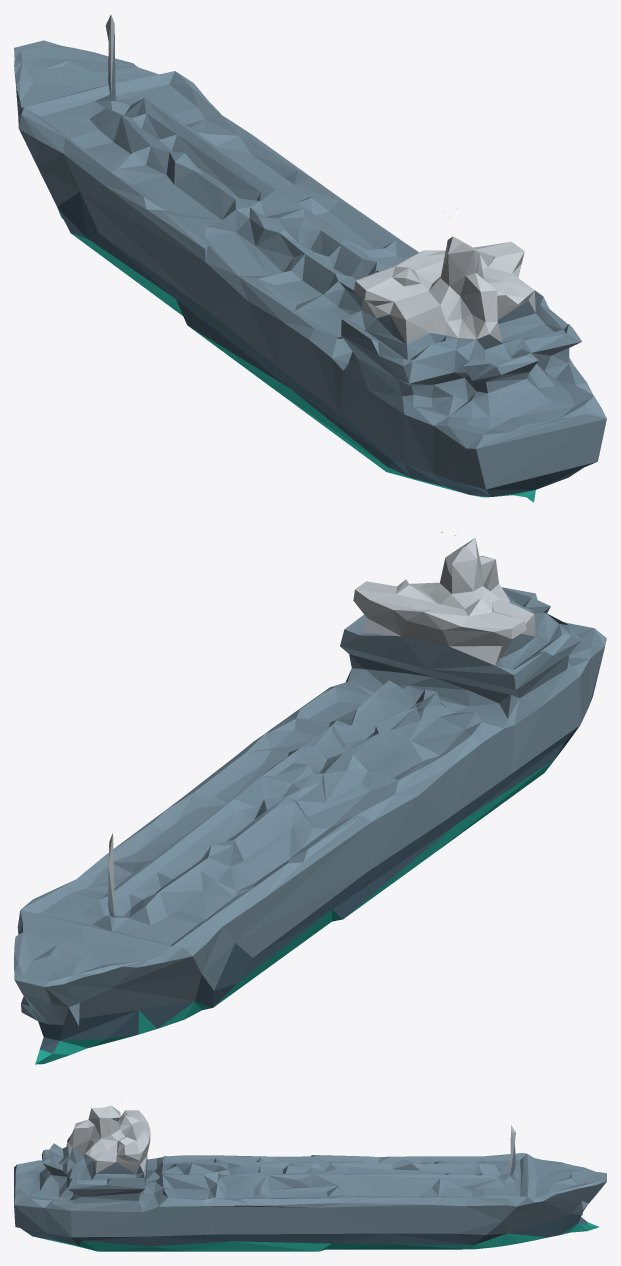
Rendered from tanker.glb.
3 renders of one model, top to bottom at view 1: azimuth 30°, elevation 25°; view 2: azimuth 150°, elevation 25°; view 3: azimuth 270°, elevation 25°, orthographic. The views are drawn at different scales.
Parts seen in each view (by area): view 1: lod0; view 2: lod0; view 3: lod0.
Boxes of the visible parts, x1,y1,x2,y2 form: lod0: [14, 14, 606, 502]; lod0: [14, 531, 606, 1064]; lod0: [14, 1093, 606, 1251].
Size of what is drawn, in the model's own units: 0.1983 by 0.2483 by 0.9959.
